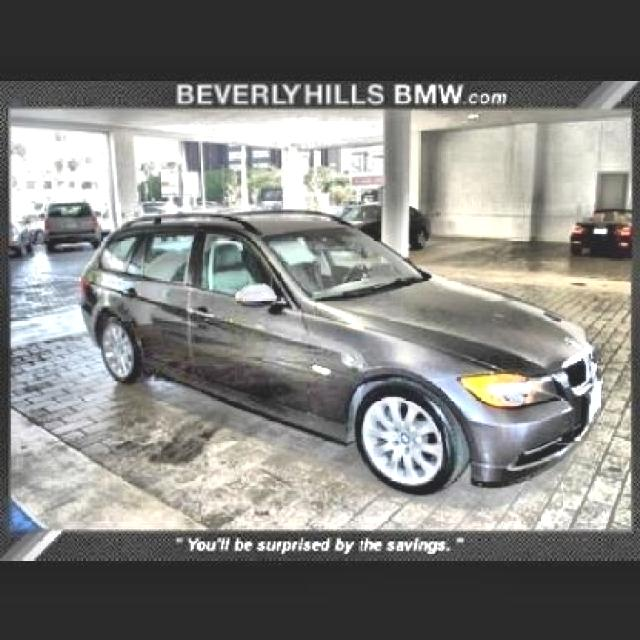black: (81, 216, 604, 494)
